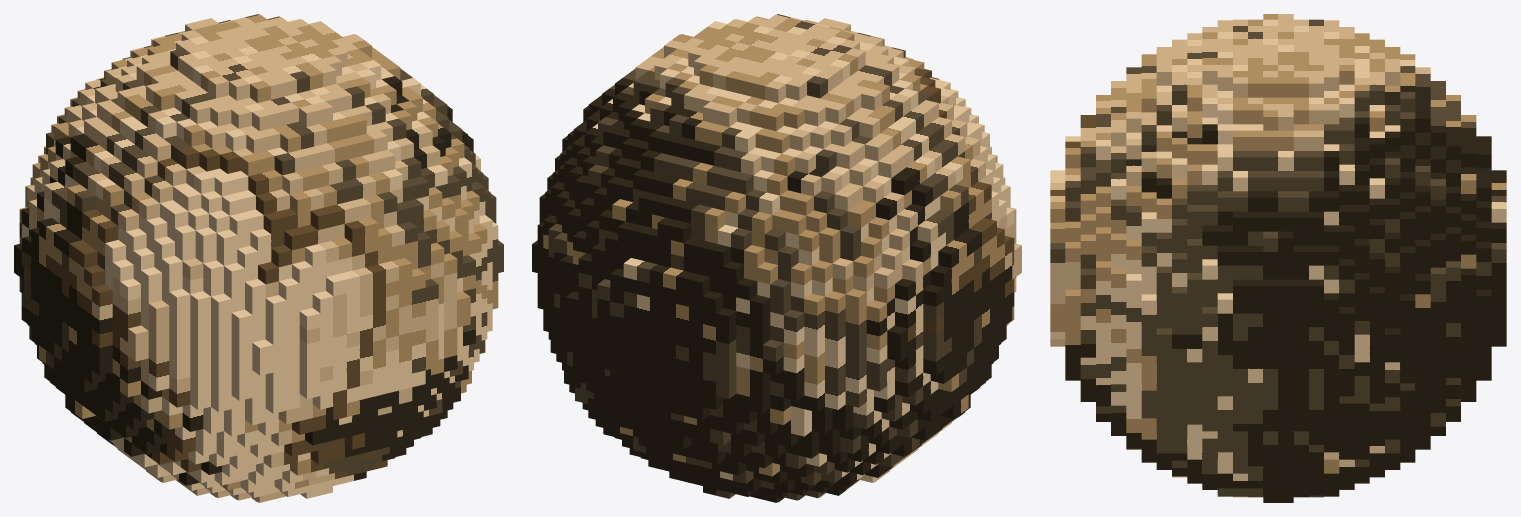
Rendered from voxel_pluto.glb.
3 views of the same model, side by side, from view 1: azimuth 30°, elevation 25°; view 2: azimuth 150°, elevation 25°; view 3: azimuth 270°, elevation 25° (orthographic).
Parts seen in each view (by area): view 1: model-material; view 2: model-material; view 3: model-material.
Boxes of the visible parts, <box> form: model-material: <box>14,14,503,502</box>; model-material: <box>532,14,1021,502</box>; model-material: <box>1050,14,1506,502</box>.
Size of the model in its own units: 30 by 30 by 30.
1 material, 1 textured.
